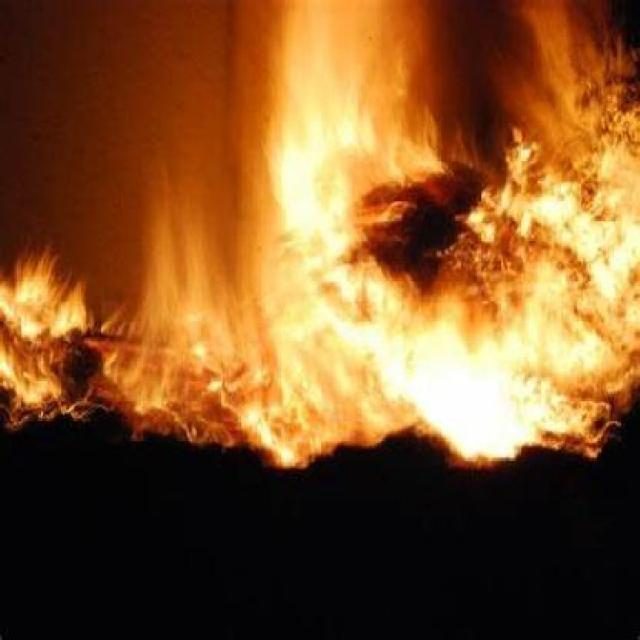Fire: (252, 6, 640, 476), (0, 250, 95, 430)
